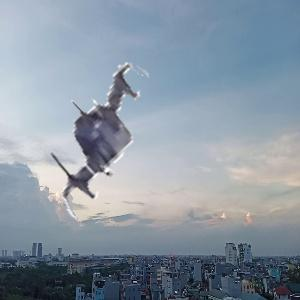drone: (21, 59, 192, 230)
